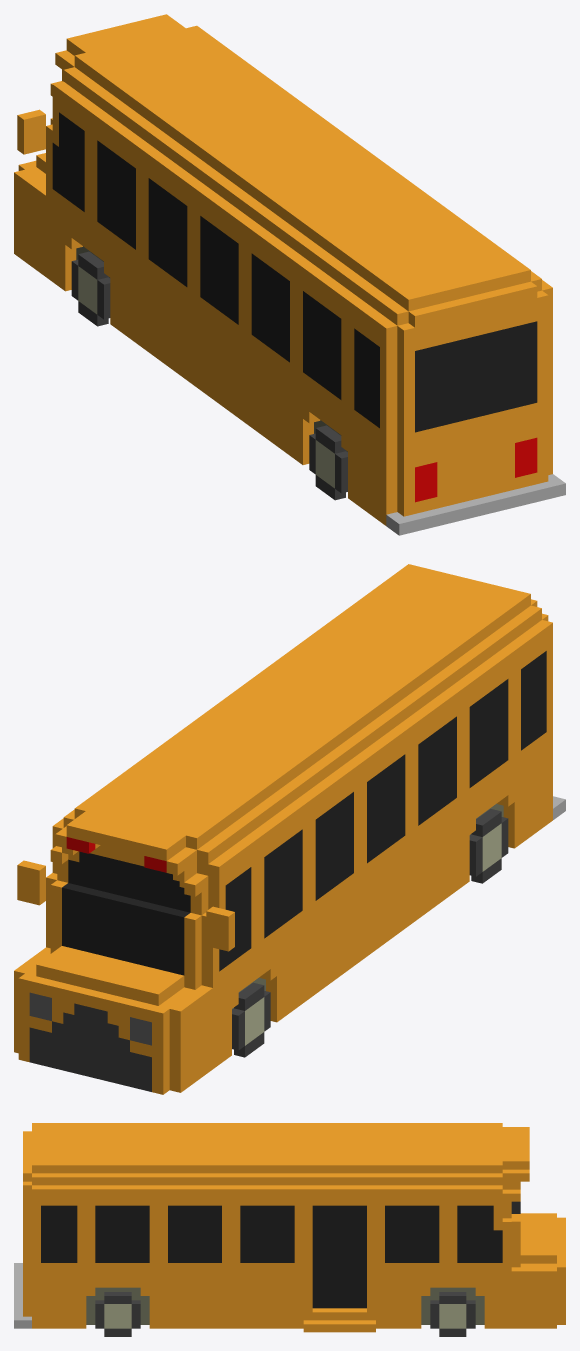
The model's file is All-7-CAR.obj.
3 renders of one model, top to bottom at view 1: azimuth 30°, elevation 25°; view 2: azimuth 150°, elevation 25°; view 3: azimuth 270°, elevation 25°, orthographic. The views are drawn at different scales.
Parts seen in each view (by area): view 1: CAR; view 2: CAR; view 3: CAR.
Part boxes in pixels (x1,y1,x2,y2): CAR: [14, 14, 565, 535]; CAR: [14, 564, 565, 1094]; CAR: [14, 1123, 565, 1336].
Bounding box in the file's own units: 1.9 × 2 × 6.1.
Materials: 1 (1 with a texture image).
